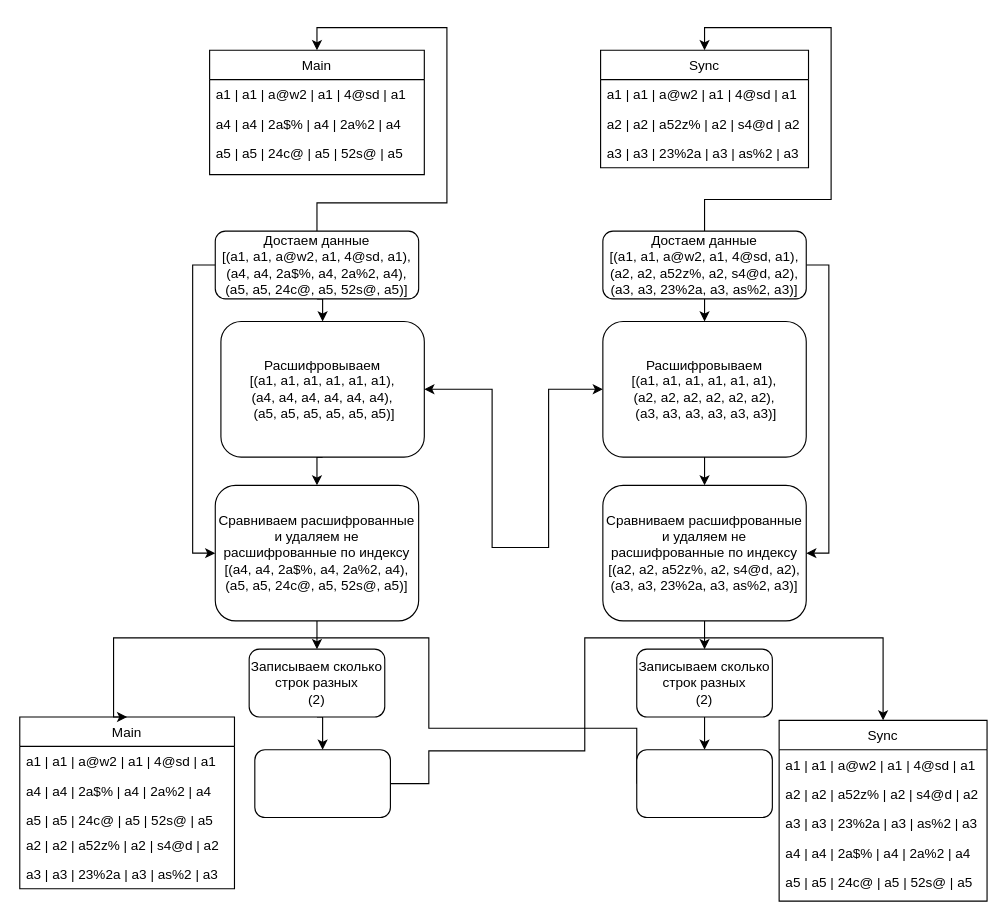
This 1007x924 diagram has some shape labels left out. The shapes that lost their labels are listed below. From the top down, each one's centre as x and y in pixels, then its label:
At point (322, 783): "Добавляем строки в sync".
At point (704, 783): "Добавляем строки в main".
